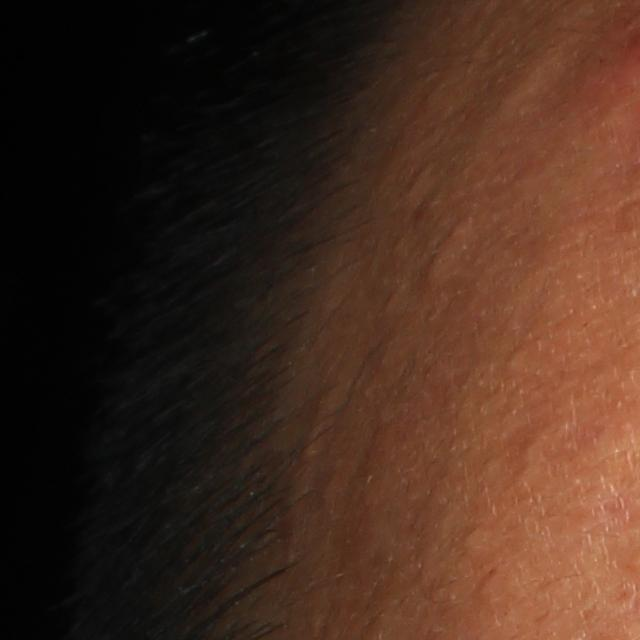comedo: (423, 251, 457, 282)
